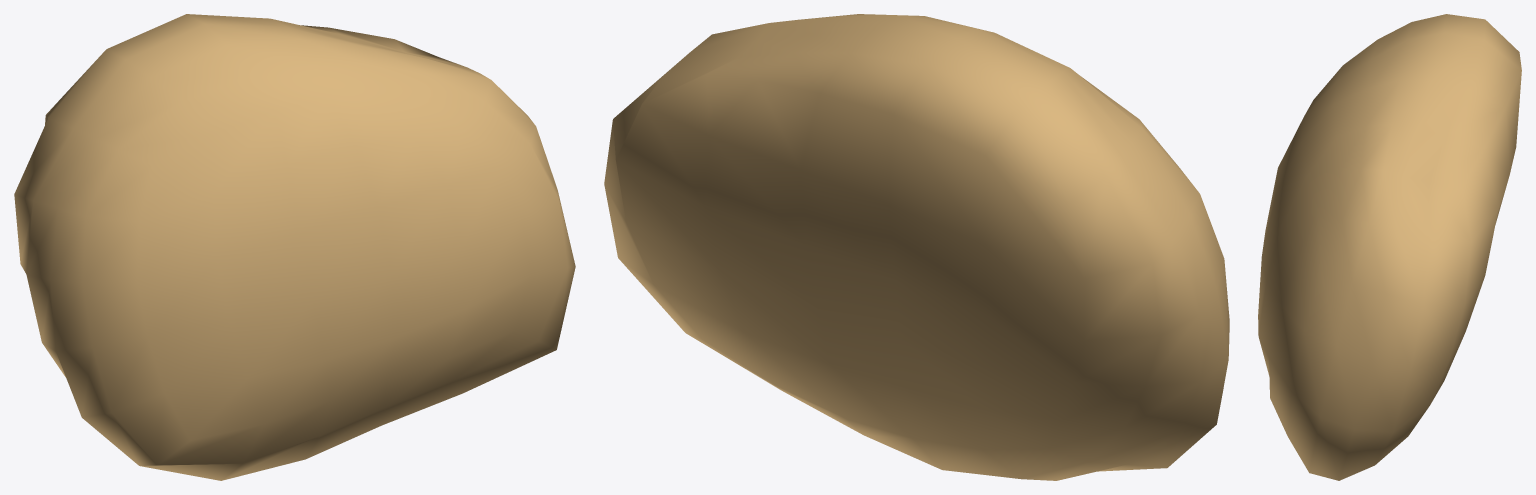
File: labrum_right_lower.obj
The picture shows the model from 3 angles, left to right: view 1: azimuth 30°, elevation 25°; view 2: azimuth 150°, elevation 25°; view 3: azimuth 270°, elevation 25°; orthographic projection. The views are drawn at different scales.
Bounding box in the file's own units: 0.0247 × 0.0189 × 0.0121.
